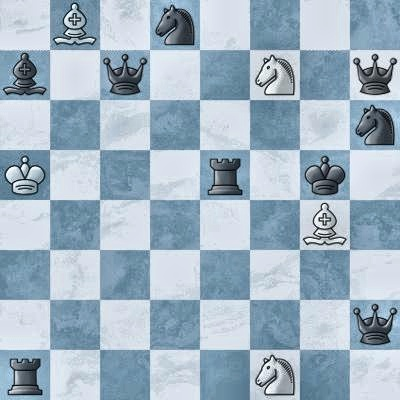black-bishop: (0, 50, 50, 100)
black-king: (300, 150, 350, 200)
black-knight: (150, 0, 200, 50), (350, 100, 400, 150)
black-queen: (100, 50, 150, 100), (350, 50, 400, 100), (350, 300, 400, 350)
black-rook: (200, 150, 250, 200), (0, 350, 50, 400)
white-bishop: (50, 0, 100, 50), (300, 200, 350, 250)
white-king: (0, 150, 50, 200)
white-knight: (250, 50, 300, 100), (250, 350, 300, 400)
